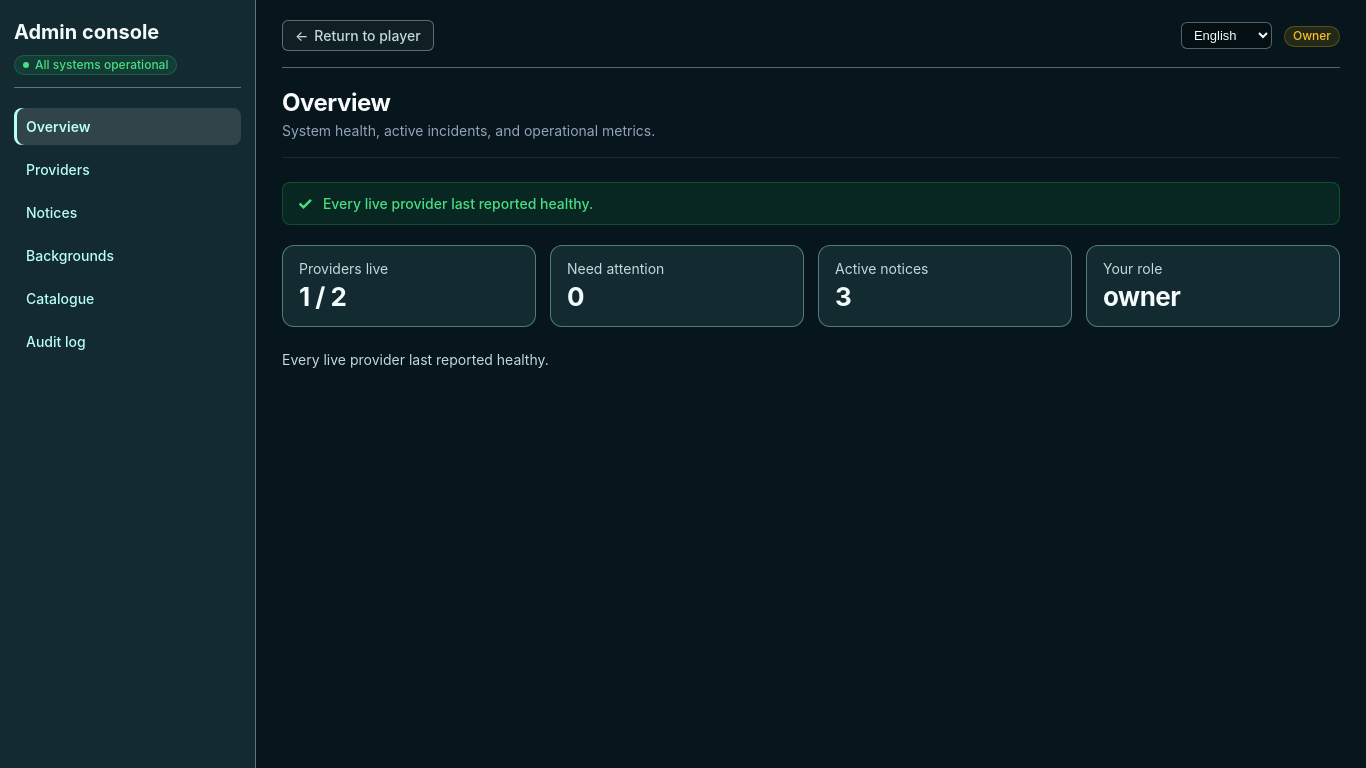
it: AdminShell › lets owner view the audit log and export JSON
Click the link "Audit log" at (56, 342), box left=26, top=333, right=86, bottom=350
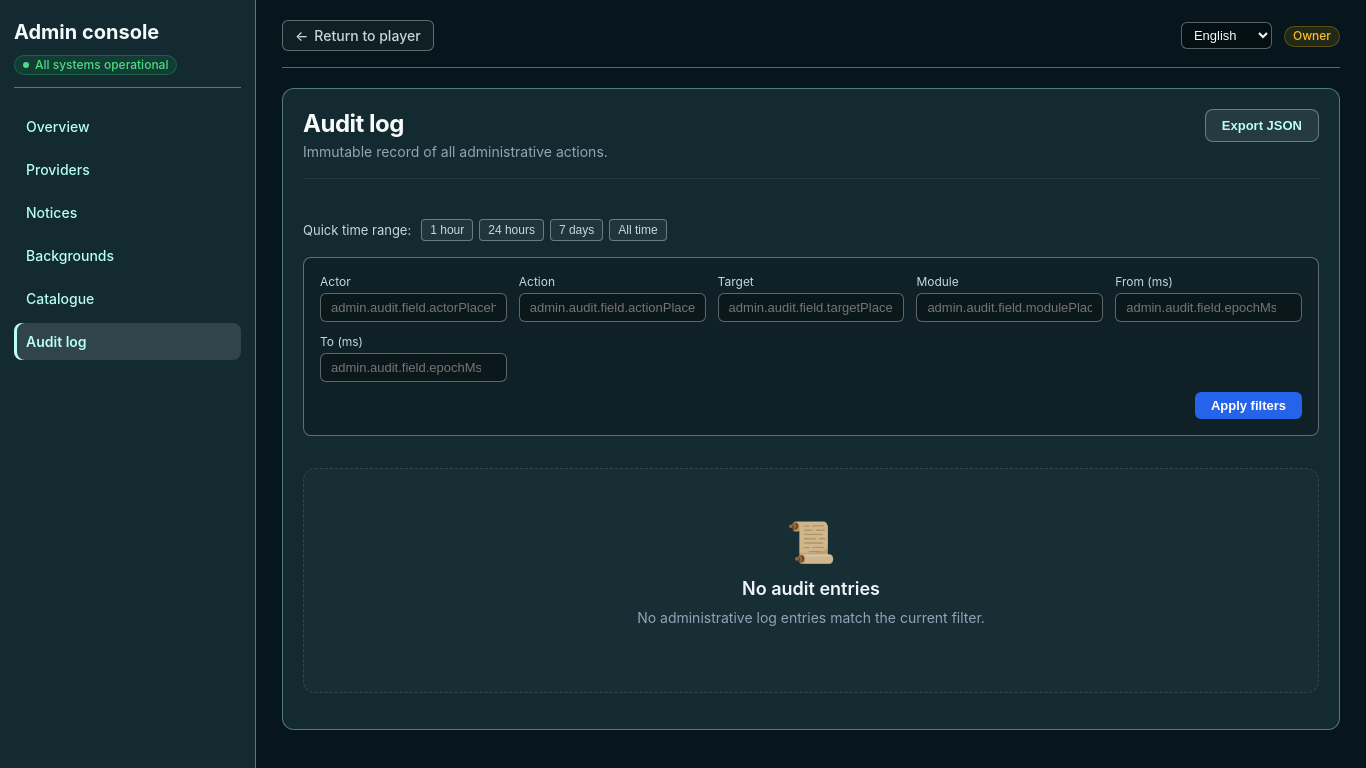
Expected: the element that starts with "Audit log" is shown
Expected: the button "Export JSON" is shown, left=1205, top=109, right=1319, bottom=142
